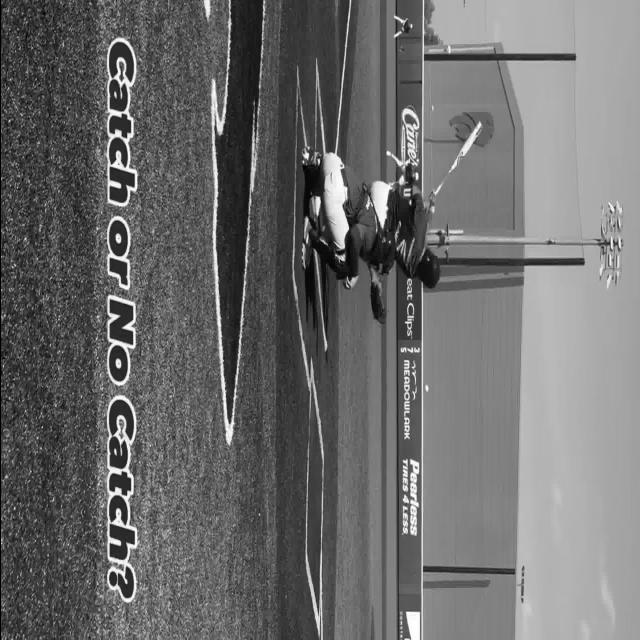baseball: (424, 384, 428, 392)
baseball_glove: (369, 272, 387, 324)
bat: (428, 120, 482, 206)
shoe: (300, 215, 314, 269), (300, 144, 320, 170)
